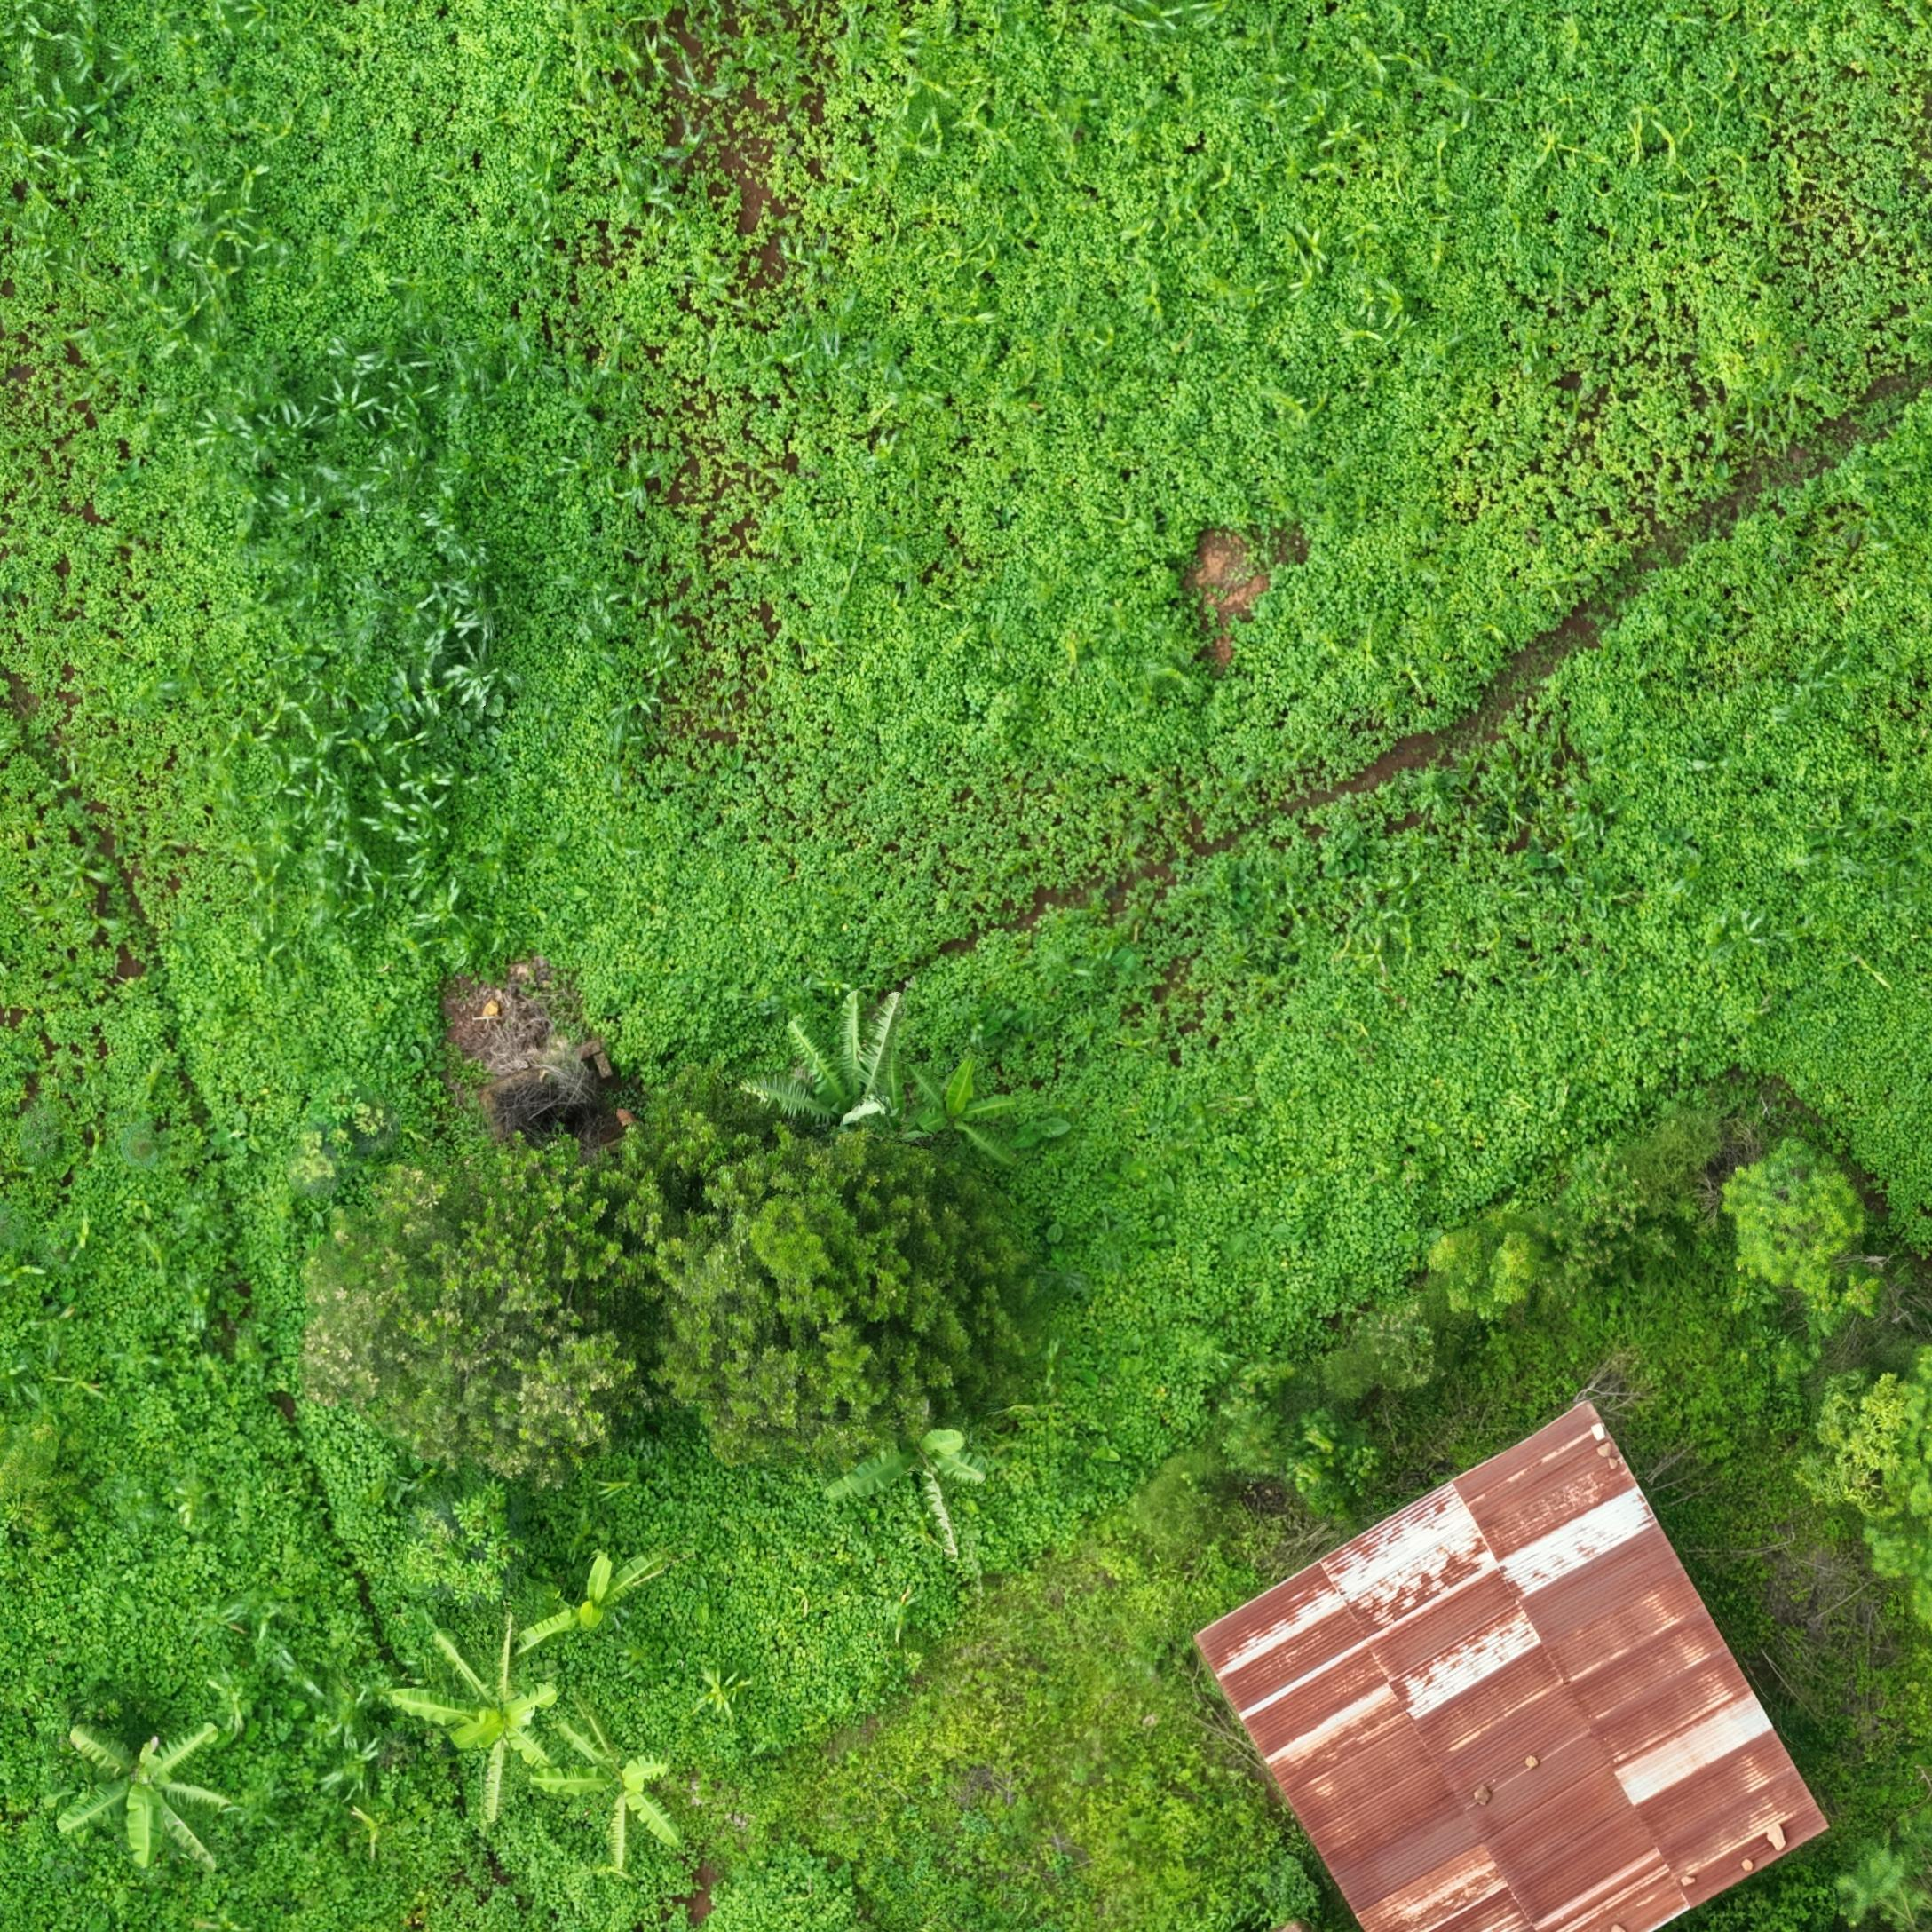Banana: (409, 1697, 566, 1870), (65, 1771, 228, 1932), (561, 1782, 711, 1932), (798, 1042, 947, 1154), (552, 1615, 692, 1698), (931, 1106, 1046, 1192)
